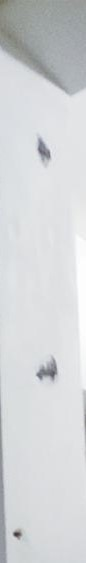Spalling: (35, 355, 58, 383), (36, 132, 50, 166), (11, 528, 24, 541)
